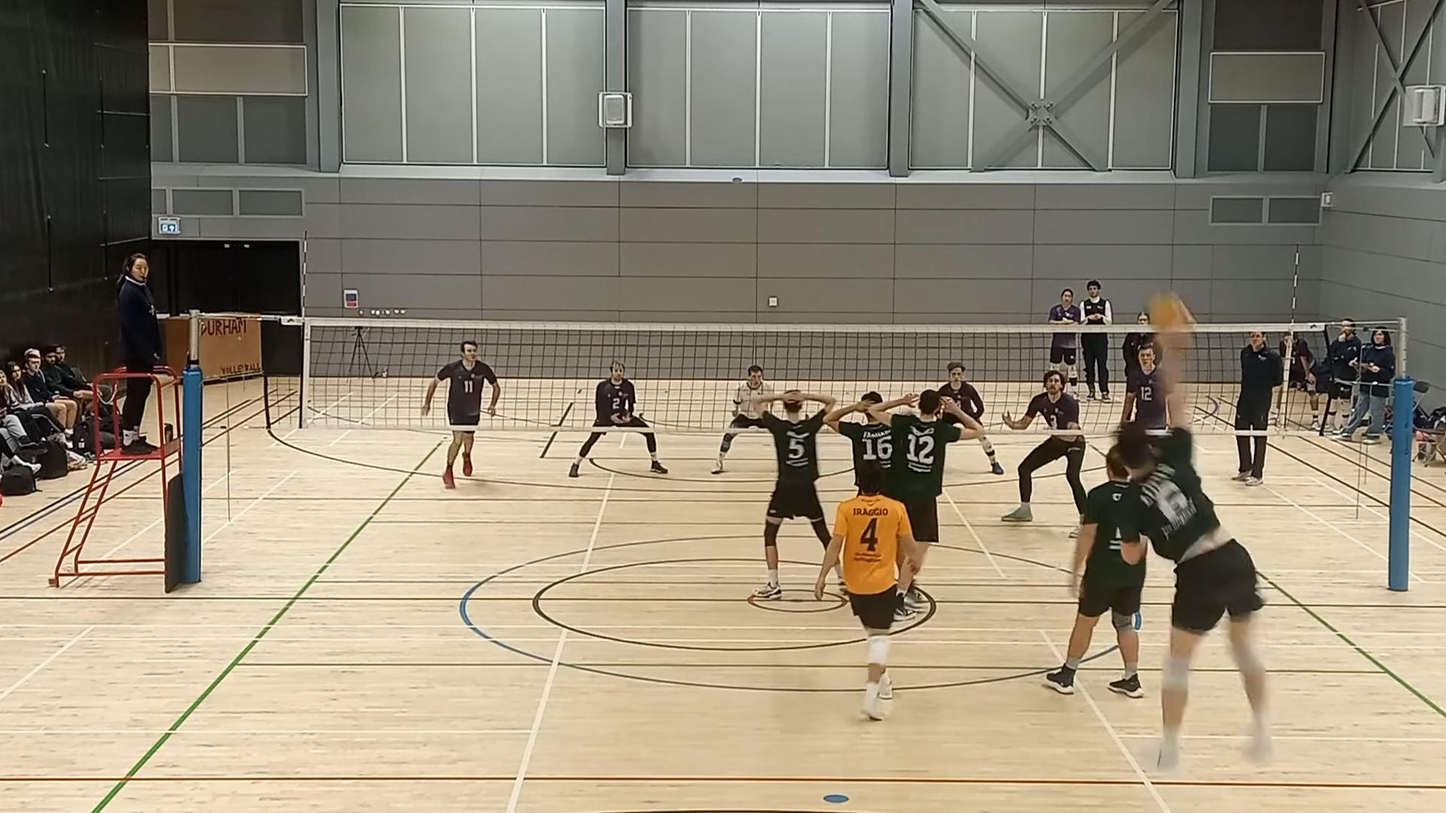battuta: (1116, 321, 1278, 776)
